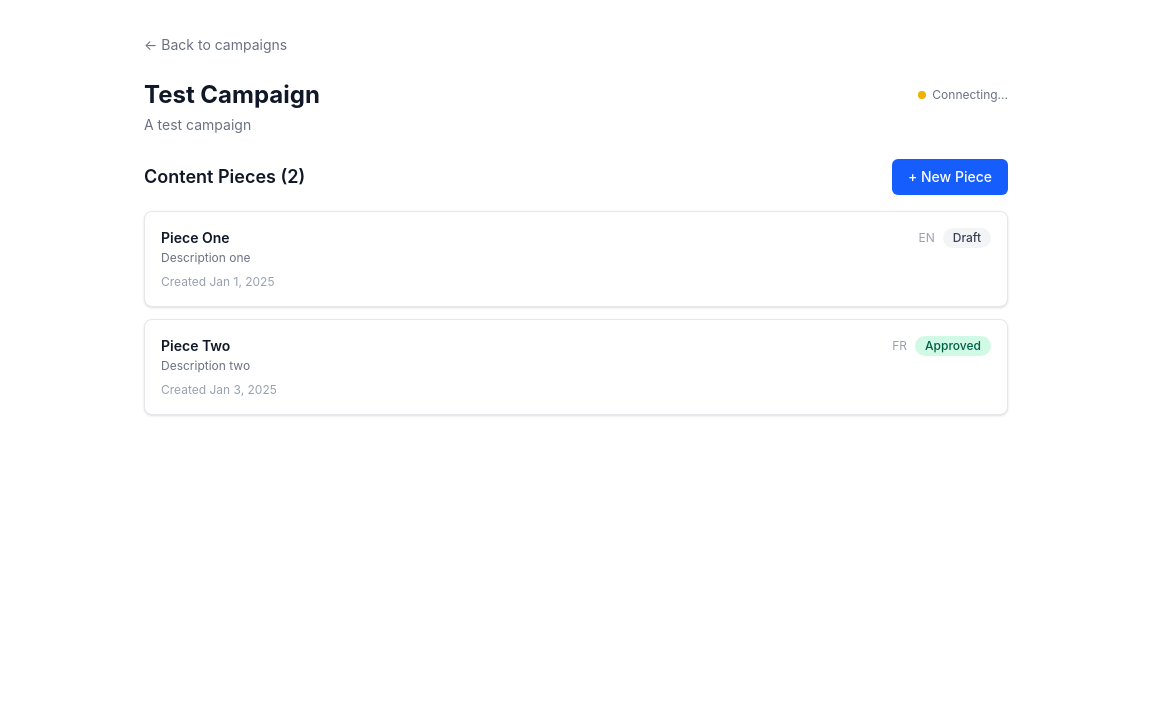
it: CampaignDetail › creates a content piece and updates the list
Check: the heading "Test Campaign" is shown, box top-left (144, 79), bottom-right (320, 111)
Click the button "+ New Piece".
click(950, 177)  # box top-left (892, 159), bottom-right (1008, 195)
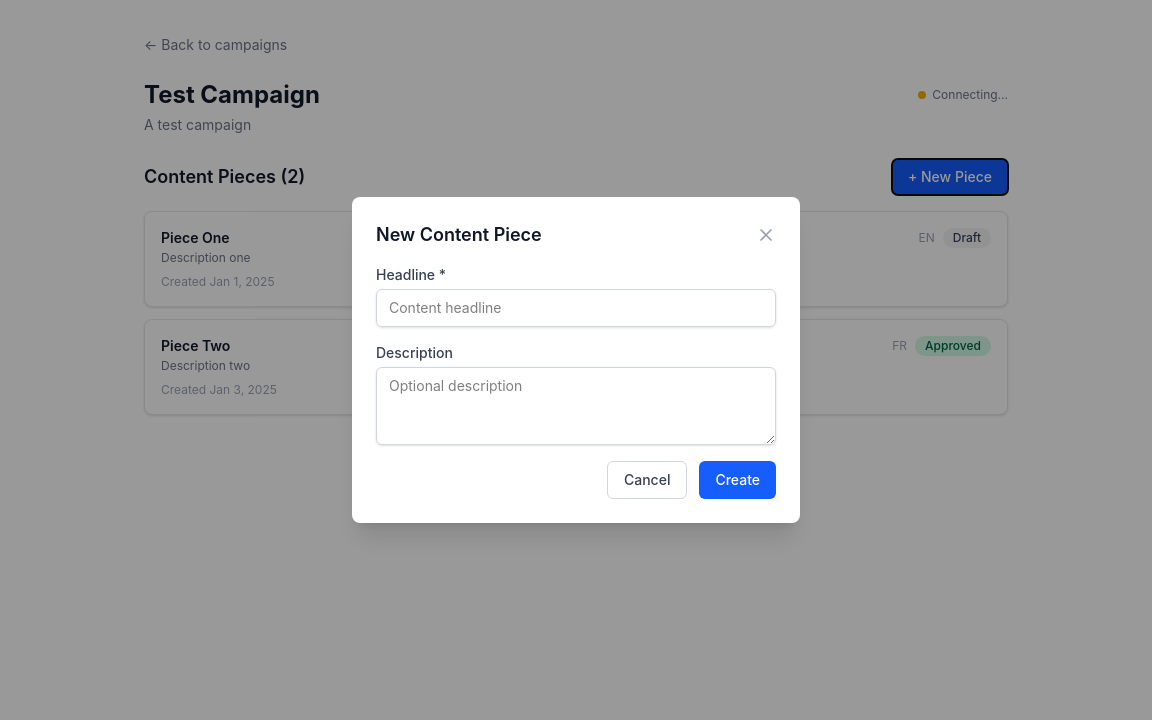
Type "New Piece" into the field labelled "Headline *".
click(576, 308); type("New Piece")  # box top-left (376, 289), bottom-right (776, 327)
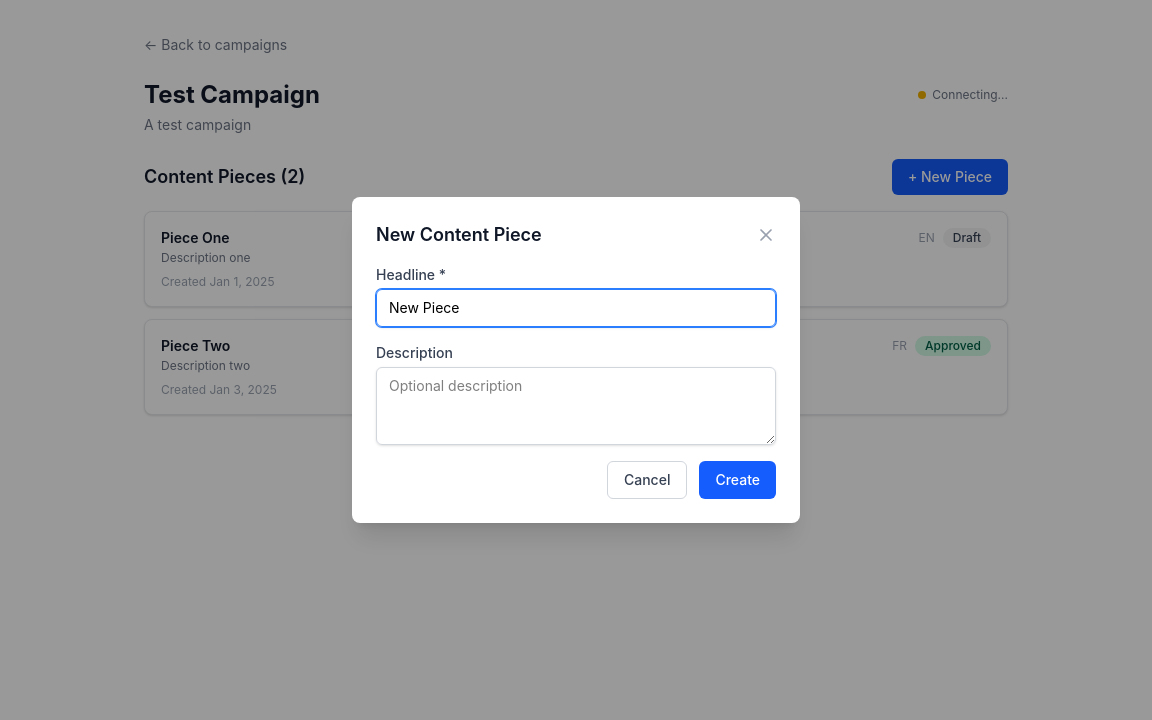
Type "New description" into the text box labelled "Description".
click(576, 406); type("New description")  # box top-left (376, 367), bottom-right (776, 445)
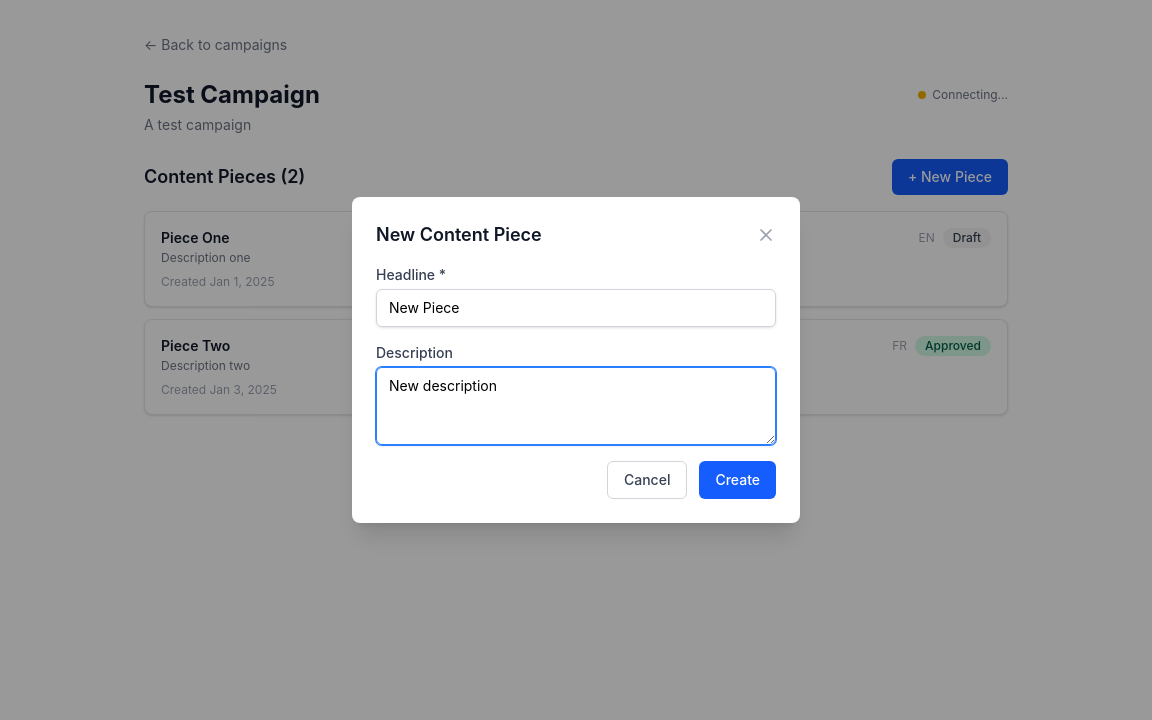
Click the button "Create".
click(738, 480)  # box top-left (699, 461), bottom-right (776, 499)
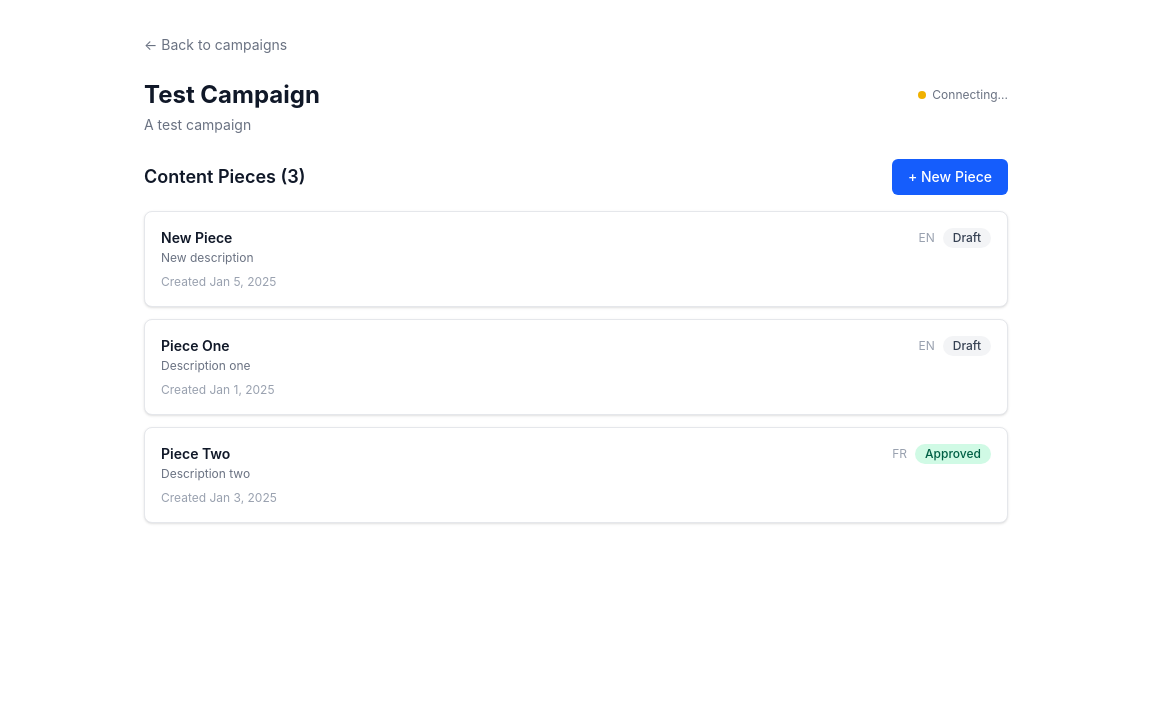
Check: the heading "New Piece" is shown, box top-left (161, 229), bottom-right (232, 246)
